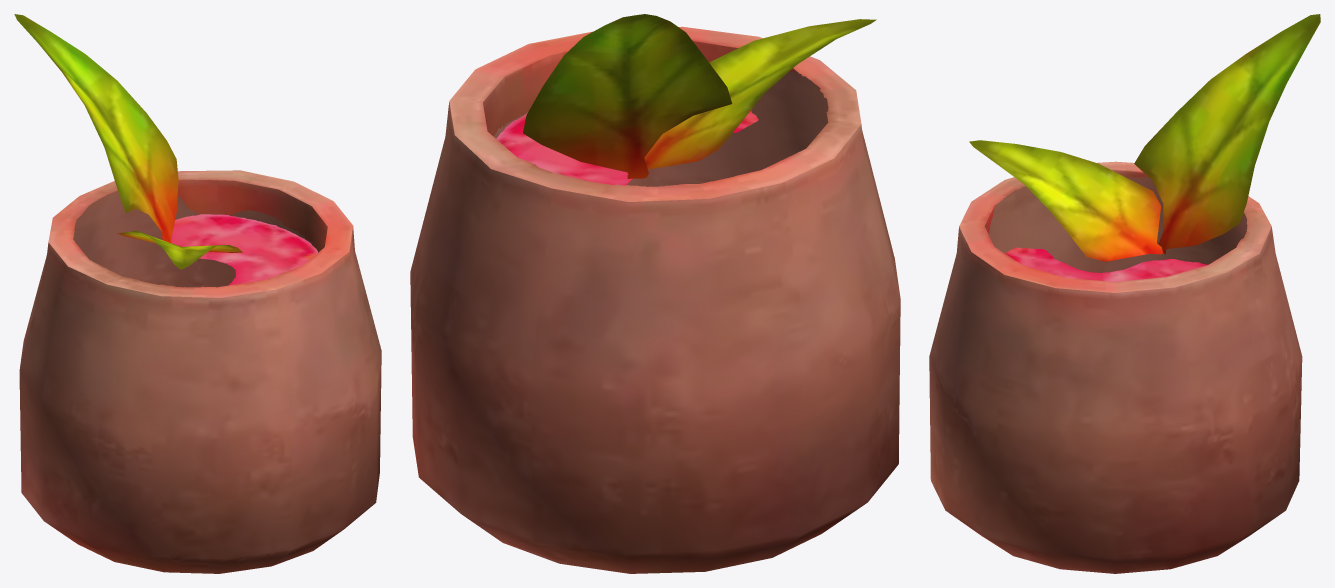
3 views of the same model, side by side, from view 1: azimuth 30°, elevation 25°; view 2: azimuth 150°, elevation 25°; view 3: azimuth 270°, elevation 25° (orthographic). The views are drawn at different scales.
Visible parts, largest first — view 1: SM_Item_Infusion_Leaf_01v1_LOD0; view 2: SM_Item_Infusion_Leaf_01v1_LOD0; view 3: SM_Item_Infusion_Leaf_01v1_LOD0.
Part boxes in pixels (left/top/right/bottom): SM_Item_Infusion_Leaf_01v1_LOD0: left=14, top=14, right=381, bottom=573; SM_Item_Infusion_Leaf_01v1_LOD0: left=410, top=14, right=900, bottom=573; SM_Item_Infusion_Leaf_01v1_LOD0: left=929, top=14, right=1320, bottom=573.
Size of the model in its own units: 0.1818 by 0.2456 by 0.191.
Materials: 1 (1 with a texture image).
